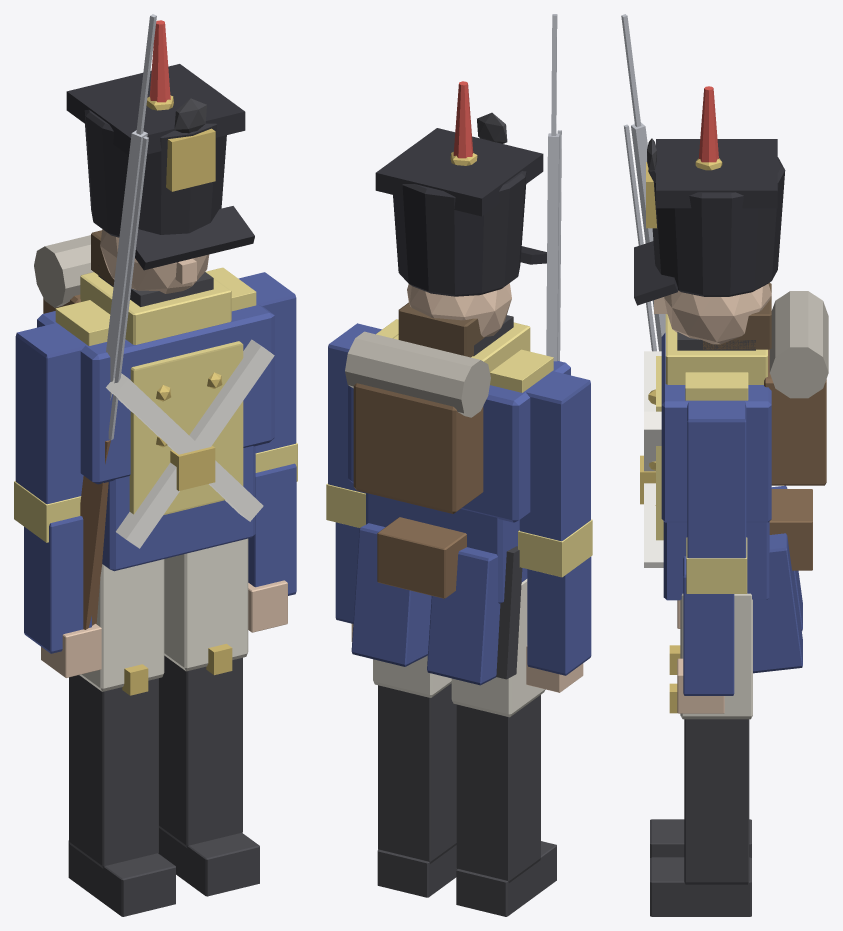
File: soldier_hero.glb
3 views of the same model, side by side, from view 1: azimuth 30°, elevation 25°; view 2: azimuth 150°, elevation 25°; view 3: azimuth 270°, elevation 25° (orthographic). The views are drawn at different scales.
Parts seen in each view (by area): view 1: Gaiter.-1, Gaiter.1, CoatUp, Arm.-1, Plastron, Breech.1, Shako, Breech.-1, CoatLo, ShakoBand, Fore.-1, Fore.1 (+27 smaller); view 2: Gaiter.-1, Knapsack, Gaiter.1, Shako, Arm.-1, Tail.L, ShakoBand, Blanket, CoatUp, Tail.R, Fore.-1, Cartbox (+20 smaller); view 3: Shako, Gaiter.1, Arm.1, CoatUp, ShakoBand, Blanket, Fore.1, Knapsack, Tail.R, Shoe.1, Head, CoatLo (+18 smaller).
Boxes of the visible parts, <box> form: Gaiter.-1: <box>69,675,158,868</box>; Gaiter.1: <box>159,655,242,847</box>; CoatUp: <box>37,303,274,484</box>; Arm.-1: <box>15,323,86,504</box>; Plastron: <box>129,341,243,515</box>; Breech.1: <box>164,538,248,671</box>; Shako: <box>84,109,226,237</box>; Breech.-1: <box>79,559,164,691</box>; CoatLo: <box>102,446,255,571</box>; ShakoBand: <box>66,64,245,155</box>; Fore.-1: <box>24,516,91,653</box>; Fore.1: <box>248,463,296,595</box>; Gaiter.-1: <box>456,695,540,882</box>; Knapsack: <box>353,383,483,513</box>; Gaiter.1: <box>378,683,456,863</box>; Shako: <box>393,171,526,296</box>; Arm.-1: <box>519,371,590,541</box>; Tail.L: <box>427,547,500,685</box>; ShakoBand: <box>375,128,543,216</box>; Blanket: <box>345,331,490,417</box>; CoatUp: <box>348,360,570,522</box>; Tail.R: <box>351,523,431,666</box>; Fore.-1: <box>527,556,591,675</box>; Cartbox: <box>377,517,466,598</box>; Shako: <box>648,157,785,296</box>; Gaiter.1: <box>684,719,749,884</box>; Arm.1: <box>687,400,746,558</box>; CoatUp: <box>661,332,771,522</box>; ShakoBand: <box>656,139,777,208</box>; Blanket: <box>769,291,828,398</box>; Fore.1: <box>683,556,734,695</box>; Knapsack: <box>764,349,826,485</box>; Tail.R: <box>753,533,802,673</box>; Shoe.1: <box>650,857,751,916</box>; Head: <box>664,283,771,344</box>; CoatLo: <box>663,521,769,600</box>.
Size of the model in its own units: 0.69 by 2.38 by 0.528.
